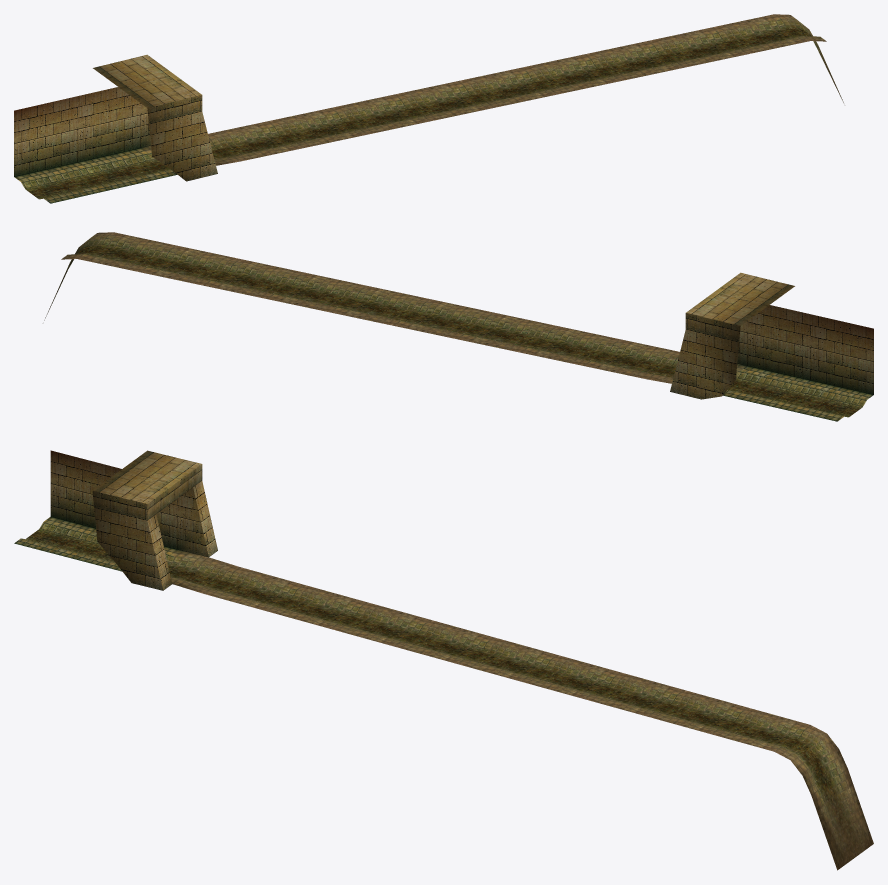
File: Mission12_Sewer01.glb
The picture shows the model from 3 angles, top to bottom: view 1: azimuth 30°, elevation 25°; view 2: azimuth 150°, elevation 25°; view 3: azimuth 330°, elevation 25°; orthographic projection.
Visible parts, largest first — view 1: MISSION12_SEWER01; view 2: MISSION12_SEWER01; view 3: MISSION12_SEWER01.
Part boxes in pixels (bbox=[...]): MISSION12_SEWER01: bbox=[14, 14, 843, 203]; MISSION12_SEWER01: bbox=[44, 232, 873, 421]; MISSION12_SEWER01: bbox=[14, 450, 873, 870].
Size of the model in its own units: 52 by 12.49 by 6.
Materials: 5 (5 with a texture image).
